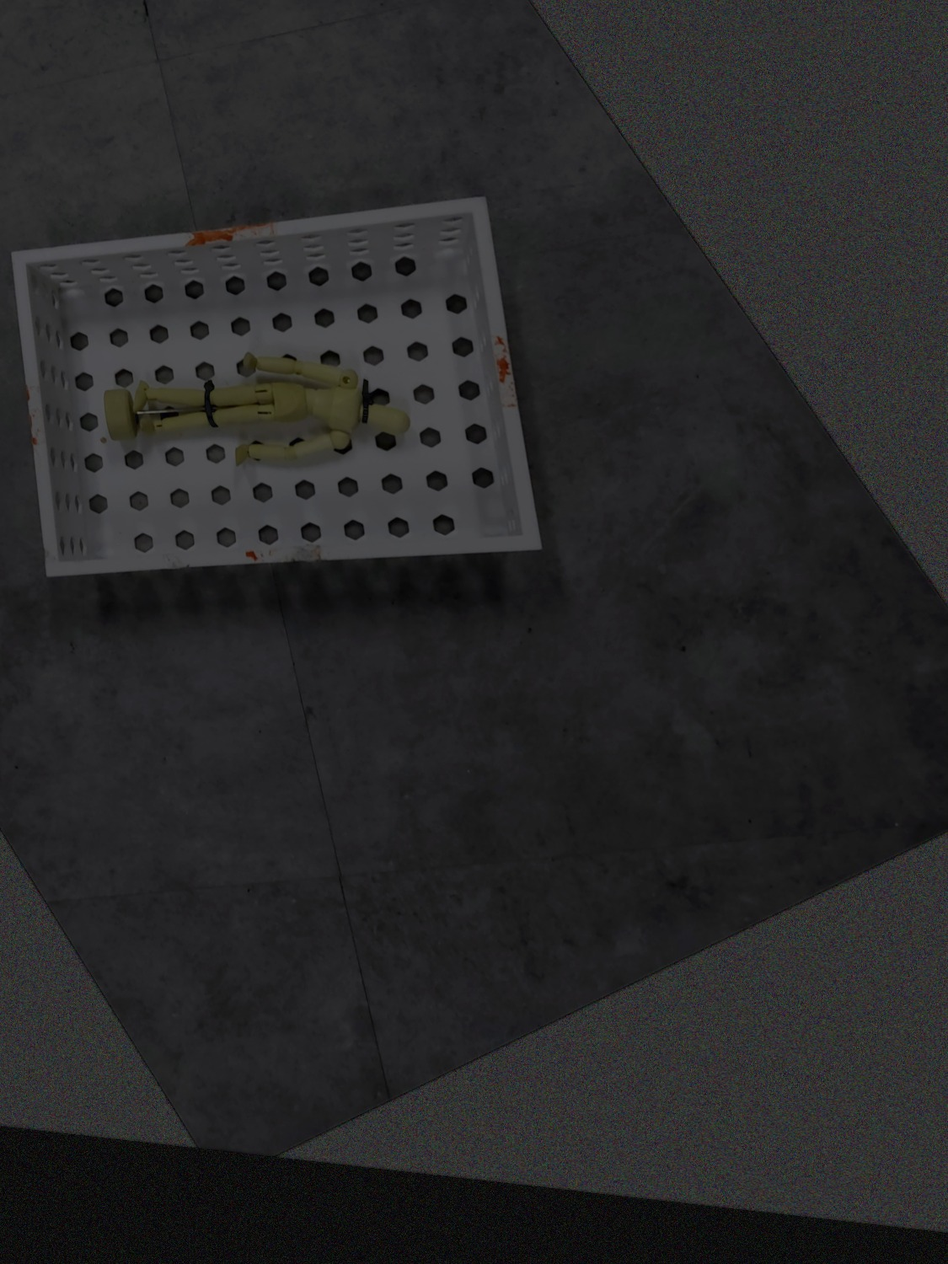basket: (7, 191, 548, 582)
mannequin: (98, 346, 418, 466)
